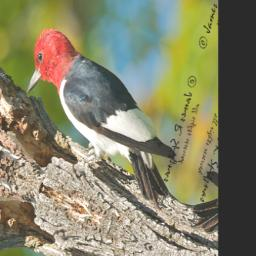Woodpecker: (9, 21, 196, 217)
